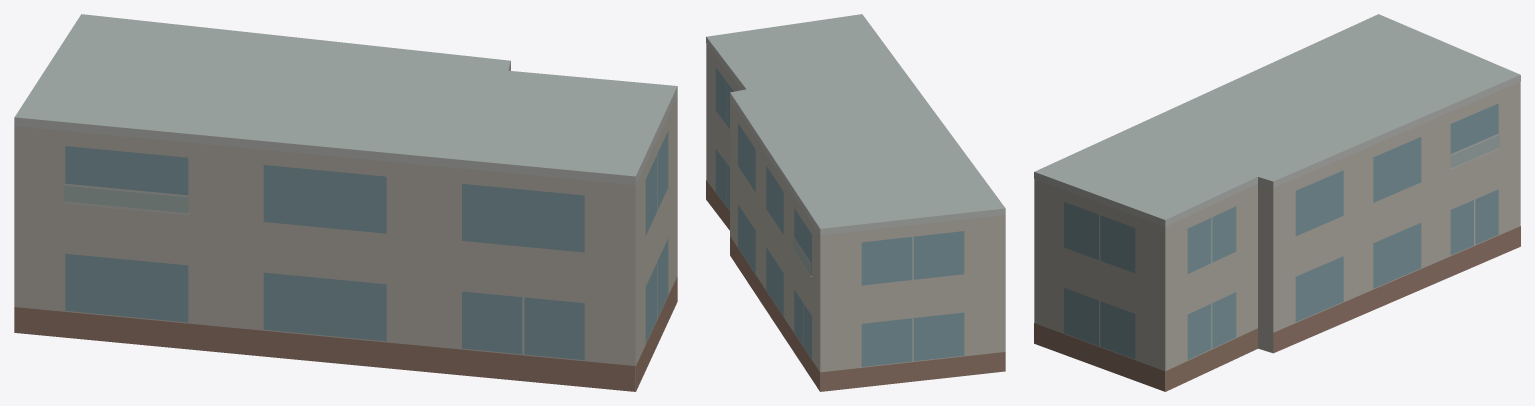
Rendered from survey-upis-33014529.glb.
The picture shows the model from 3 angles, left to right: view 1: azimuth 30°, elevation 25°; view 2: azimuth 150°, elevation 25°; view 3: azimuth 270°, elevation 25°; orthographic projection. The views are drawn at different scales.
Parts seen in each view (by area): view 1: survey-upis-33014529.tmp; view 2: survey-upis-33014529.tmp; view 3: survey-upis-33014529.tmp.
Part boxes in pixels (x1,y1,x2,y2): survey-upis-33014529.tmp: (14,14,677,391); survey-upis-33014529.tmp: (706,14,1005,391); survey-upis-33014529.tmp: (1034,14,1520,391).
Size of the model in its own units: 15.7 by 6.1 by 15.66.
